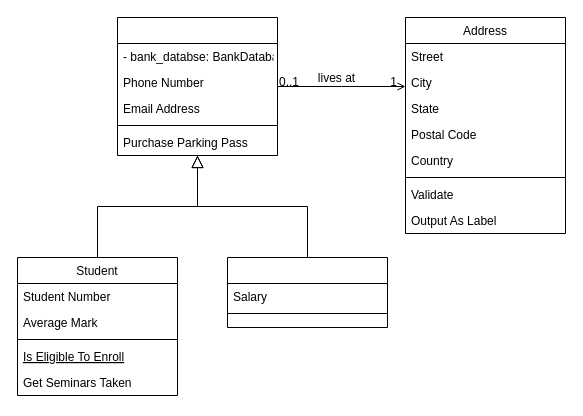
Image size: 583x416. Some labels were removed from this diagram. The shapes that lost their labels are listed below. From the top down, each one's box as (x1, y1, x2, y2) in pixels, then its label:
(116, 16, 278, 156): ATM
(226, 256, 388, 328): Professor
